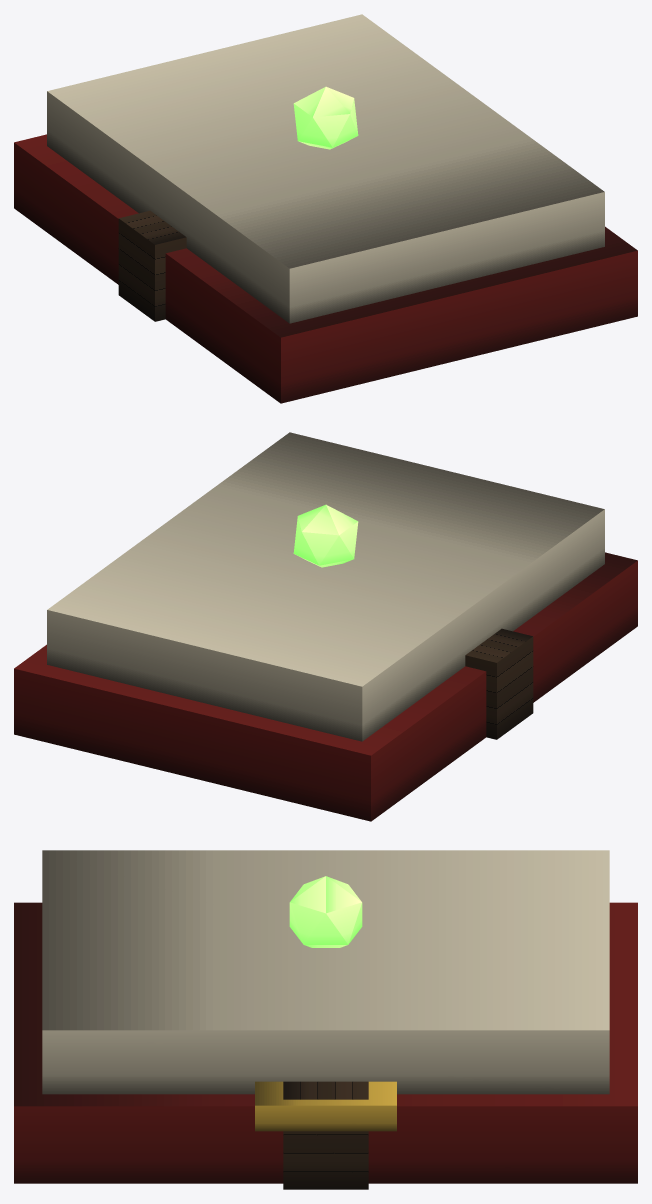
File: spellbook.gltf
The picture shows the model from 3 angles, top to bottom: view 1: azimuth 30°, elevation 25°; view 2: azimuth 150°, elevation 25°; view 3: azimuth 270°, elevation 25°; orthographic projection. The views are drawn at different scales.
Parts seen in each view (by area): view 1: spellbook; view 2: spellbook; view 3: spellbook.
Boxes of the visible parts, <box> form: spellbook: <box>14,14,637,403</box>; spellbook: <box>14,432,637,821</box>; spellbook: <box>14,850,637,1189</box>.
Bounding box in the file's own units: 0.37 × 0.16 × 0.44.
1 material, 1 textured.
